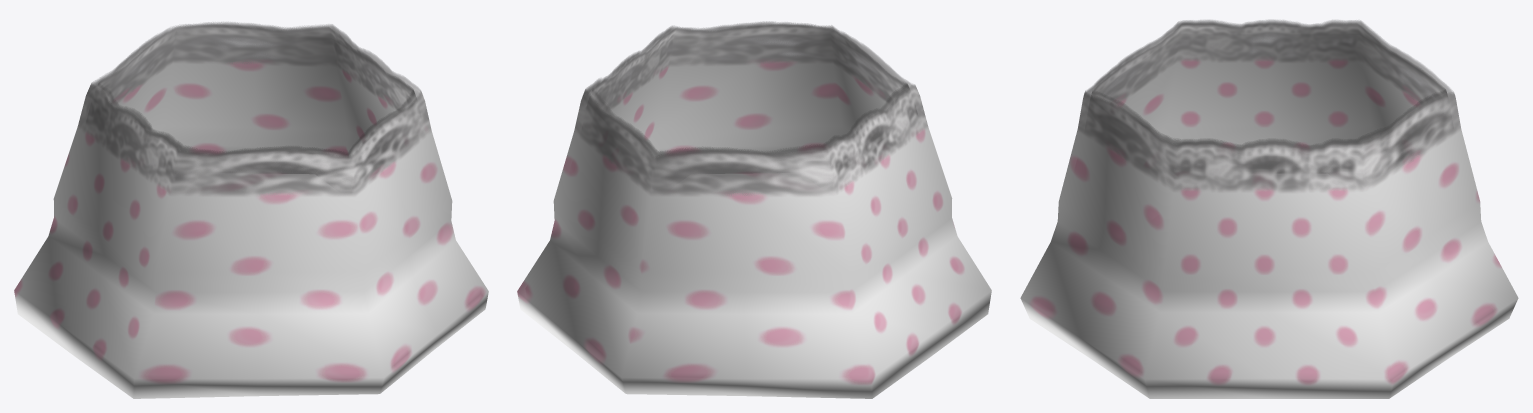
Rendered from Polka.glb.
3 renders of one model, left to right at view 1: azimuth 30°, elevation 25°; view 2: azimuth 150°, elevation 25°; view 3: azimuth 270°, elevation 25°, orthographic. The views are drawn at different scales.
Parts seen in each view (by area): view 1: Polka; view 2: Polka; view 3: Polka.
Part boxes in pixels (x1,y1,x2,y2): Polka: (14, 22, 488, 398); Polka: (517, 21, 991, 398); Polka: (1020, 20, 1518, 398).
Bounding box in the file's own units: 1.8 × 1.13 × 2.1.
1 material, 1 textured.
